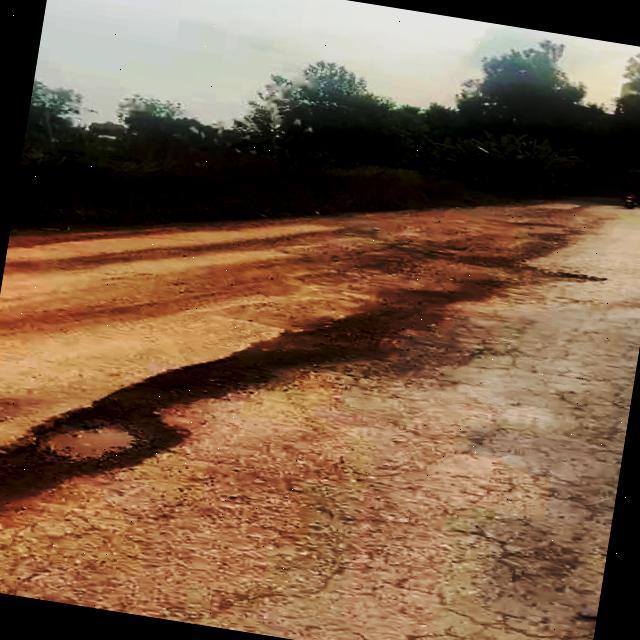pothole: (106, 281, 400, 443), (12, 392, 198, 492), (0, 446, 81, 571)
